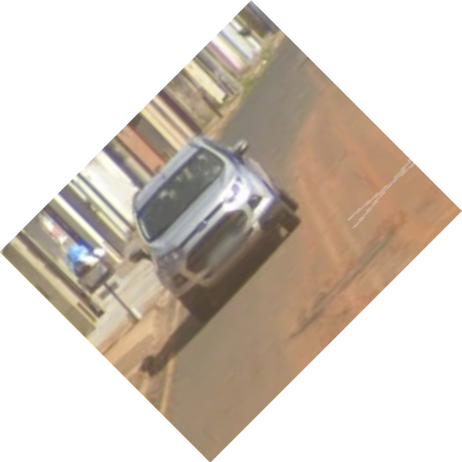car: (124, 130, 308, 327)
